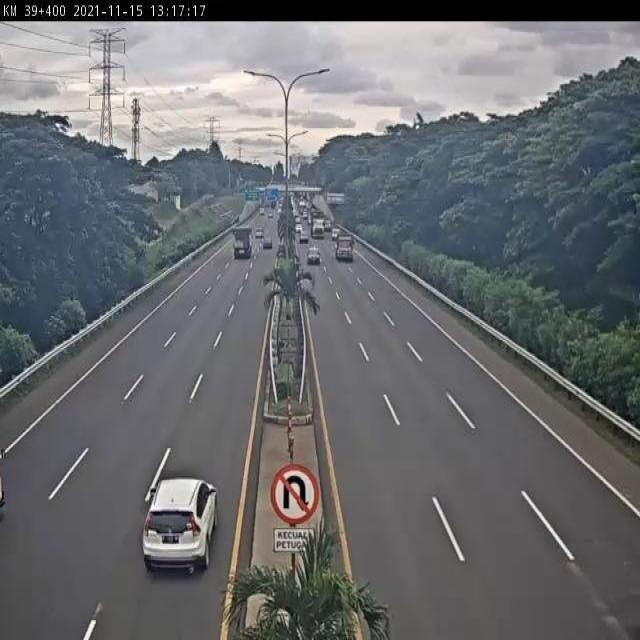Car: (140, 477, 218, 573), (307, 248, 321, 264), (300, 230, 310, 243), (262, 237, 272, 250), (331, 228, 340, 240), (255, 227, 264, 238), (294, 223, 303, 234), (294, 214, 300, 224), (268, 212, 273, 218)
Truck: (232, 226, 255, 260), (332, 232, 356, 260), (309, 216, 326, 238)
